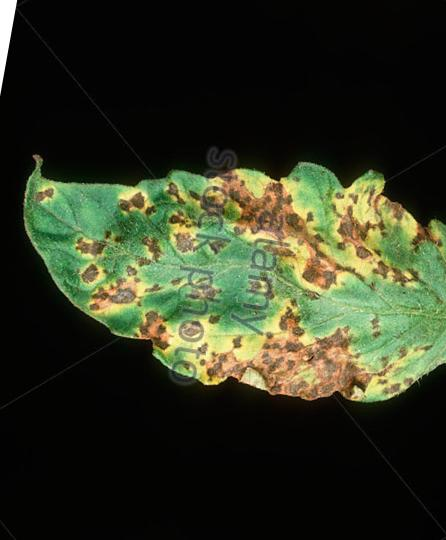Tomato Septoria leaf spot: (0, 101, 446, 448)
